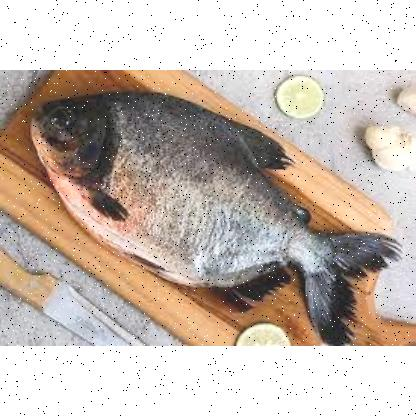ikan-pacu: (32, 88, 354, 316)
